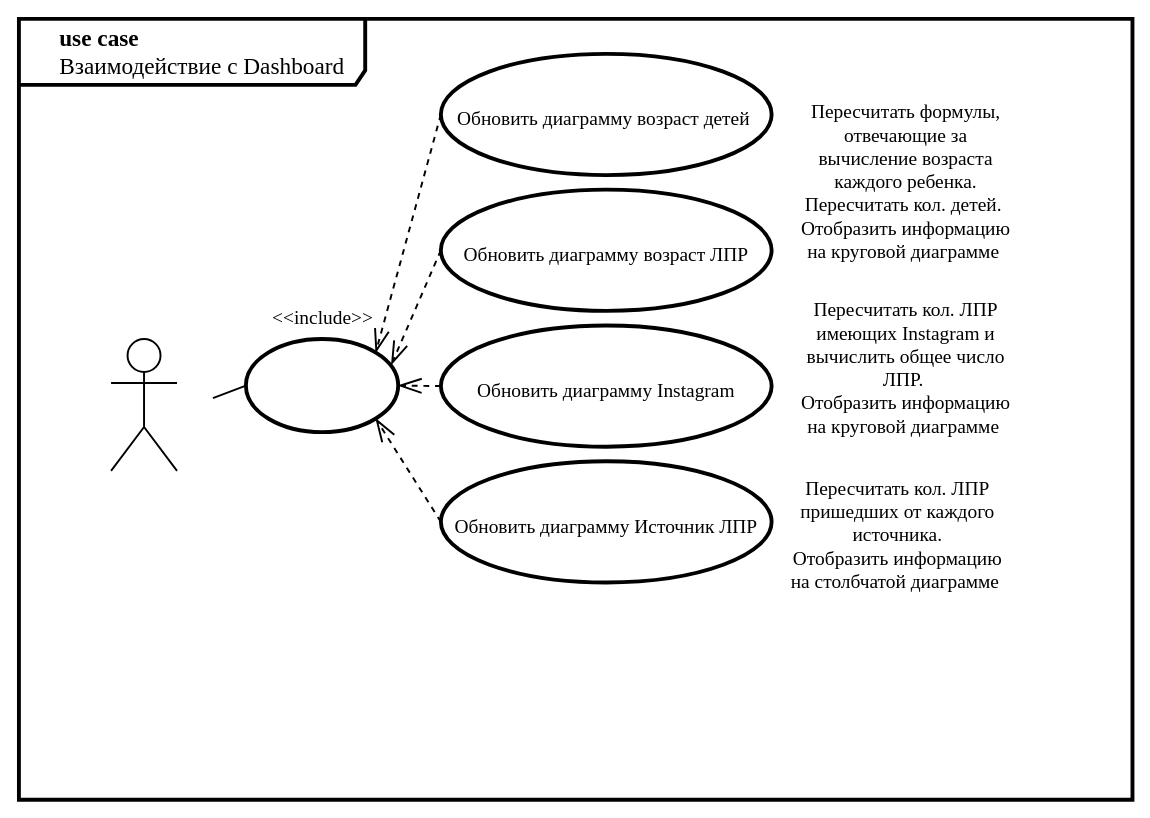
Image size: 1150x818. Some labels were removed from this diagram. Each missing label, with the box of its shape:
Обновить данные: (243, 337, 400, 434)
Пользователь Dashboard: (110, 338, 178, 471)
